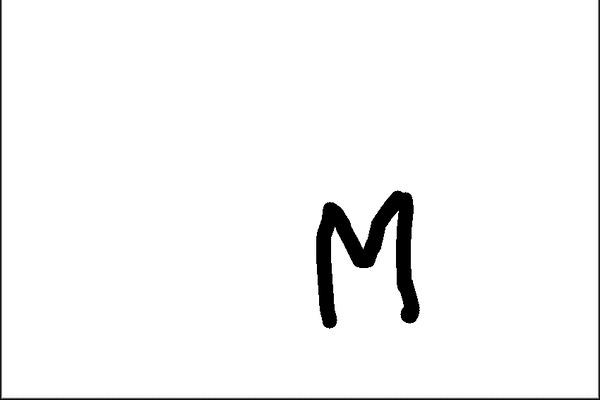M: (305, 190, 425, 325)
